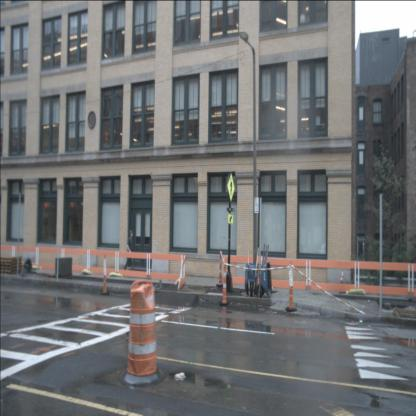human-pedestrian-adult: (122, 230, 136, 278)
movable_object-trafficcone: (118, 279, 166, 388), (286, 261, 298, 312), (220, 258, 230, 306), (100, 252, 110, 295), (216, 247, 224, 287), (338, 268, 347, 295)
